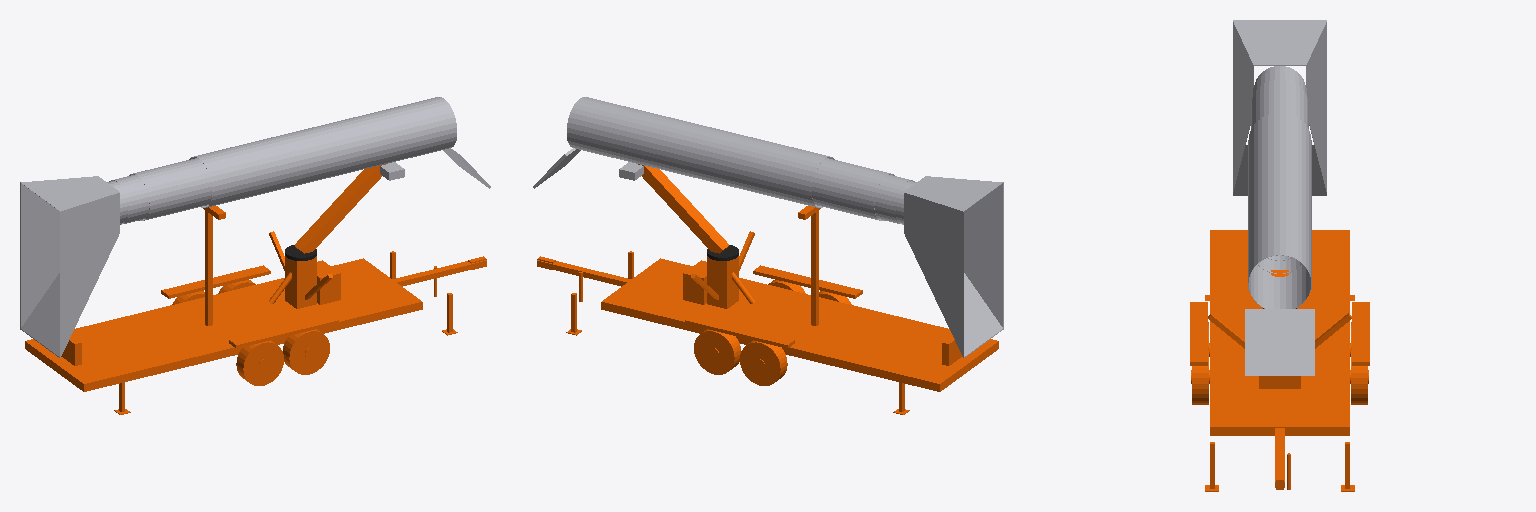
robot.urdf — tr5000_trash_rocket:
<?xml version="1.0"?>
<!-- cadpy:sourcePath=tr5000_1_urdf.py -->
<!-- cadpy:sourceHash=af9e098fb67090b3d28d1a054f773d7cbe2afeafd7471673b48af357dc1c9b79 -->
<robot name="tr5000_trash_rocket">
  <material name="steel_orange">
    <color rgba="0.96 0.45 0.05 1.0" />
  </material>
  <material name="steel_dark">
    <color rgba="0.18 0.18 0.18 1.0" />
  </material>
  <material name="aluminum_raw">
    <color rgba="0.75 0.75 0.78 1.0" />
  </material>
  <material name="uhmw_natural">
    <color rgba="0.95 0.95 0.9 1.0" />
  </material>
  <link name="base_link">
    <inertial>
      <origin xyz="-4.4 0 0.55" rpy="0 0 0" />
      <mass value="2950" />
      <inertia ixx="1959.29" iyy="19334.8" izz="20699.2" ixy="0" ixz="0" iyz="0" />
    </inertial>
    <visual>
      <origin xyz="0 0 0" rpy="0 0 0" />
      <geometry>
        <mesh filename="tr5000_1_meshes/base_link.stl" scale="0.001 0.001 0.001" />
      </geometry>
      <material name="steel_orange" />
    </visual>
    <collision>
      <origin xyz="0 0 0" rpy="0 0 0" />
      <geometry>
        <mesh filename="tr5000_1_meshes/base_link.stl" scale="0.001 0.001 0.001" />
      </geometry>
    </collision>
  </link>
  <link name="turret">
    <inertial>
      <origin xyz="0 0 0.03" rpy="0 0 0" />
      <mass value="40" />
      <inertia ixx="1.06167" iyy="1.06167" izz="2.09067" ixy="0" ixz="0" iyz="0" />
    </inertial>
    <visual>
      <origin xyz="0 0 0" rpy="0 0 0" />
      <geometry>
        <mesh filename="tr5000_1_meshes/turret.stl" scale="0.001 0.001 0.001" />
      </geometry>
      <material name="steel_dark" />
    </visual>
    <collision>
      <origin xyz="0 0 0" rpy="0 0 0" />
      <geometry>
        <mesh filename="tr5000_1_meshes/turret.stl" scale="0.001 0.001 0.001" />
      </geometry>
    </collision>
  </link>
  <link name="boom">
    <inertial>
      <origin xyz="0.82 0 0.66" rpy="0 0 0" />
      <mass value="180" />
      <inertia ixx="30.3375" iyy="72.75" izz="44.2875" ixy="0" ixz="0" iyz="0" />
    </inertial>
    <visual>
      <origin xyz="0 0 0" rpy="0 0 0" />
      <geometry>
        <mesh filename="tr5000_1_meshes/boom.stl" scale="0.001 0.001 0.001" />
      </geometry>
      <material name="steel_orange" />
    </visual>
    <collision>
      <origin xyz="0 0 0" rpy="0 0 0" />
      <geometry>
        <mesh filename="tr5000_1_meshes/boom.stl" scale="0.001 0.001 0.001" />
      </geometry>
    </collision>
  </link>
  <link name="chute_1">
    <inertial>
      <origin xyz="-1.2 0 0.46" rpy="0 0 0" />
      <mass value="330" />
      <inertia ixx="46.552" iyy="683.551" izz="683.551" ixy="0" ixz="0" iyz="0" />
    </inertial>
    <visual>
      <origin xyz="0 0 0" rpy="0 0 0" />
      <geometry>
        <mesh filename="tr5000_1_meshes/chute_1.stl" scale="0.001 0.001 0.001" />
      </geometry>
      <material name="aluminum_raw" />
    </visual>
    <collision>
      <origin xyz="0 0 0" rpy="0 0 0" />
      <geometry>
        <mesh filename="tr5000_1_meshes/chute_1.stl" scale="0.001 0.001 0.001" />
      </geometry>
    </collision>
  </link>
  <link name="chute_2">
    <inertial>
      <origin xyz="-2.5 0 0.46" rpy="0 0 0" />
      <mass value="240" />
      <inertia ixx="28.224" iyy="494.312" izz="494.312" ixy="0" ixz="0" iyz="0" />
    </inertial>
    <visual>
      <origin xyz="0 0 0" rpy="0 0 0" />
      <geometry>
        <mesh filename="tr5000_1_meshes/chute_2.stl" scale="0.001 0.001 0.001" />
      </geometry>
      <material name="aluminum_raw" />
    </visual>
    <collision>
      <origin xyz="0 0 0" rpy="0 0 0" />
      <geometry>
        <mesh filename="tr5000_1_meshes/chute_2.stl" scale="0.001 0.001 0.001" />
      </geometry>
    </collision>
  </link>
  <link name="chute_3">
    <inertial>
      <origin xyz="-2.9 0 0.46" rpy="0 0 0" />
      <mass value="210" />
      <inertia ixx="21.8435" iyy="431.097" izz="431.097" ixy="0" ixz="0" iyz="0" />
    </inertial>
    <visual>
      <origin xyz="0 0 0" rpy="0 0 0" />
      <geometry>
        <mesh filename="tr5000_1_meshes/chute_3.stl" scale="0.001 0.001 0.001" />
      </geometry>
      <material name="aluminum_raw" />
    </visual>
    <collision>
      <origin xyz="0 0 0" rpy="0 0 0" />
      <geometry>
        <mesh filename="tr5000_1_meshes/chute_3.stl" scale="0.001 0.001 0.001" />
      </geometry>
    </collision>
  </link>
  <link name="chute_4">
    <inertial>
      <origin xyz="-3.4 0 0.4" rpy="0 0 0" />
      <mass value="260" />
      <inertia ixx="62.3328" iyy="854.533" izz="873.533" ixy="0" ixz="0" iyz="0" />
    </inertial>
    <visual>
      <origin xyz="0 0 0" rpy="0 0 0" />
      <geometry>
        <mesh filename="tr5000_1_meshes/chute_4.stl" scale="0.001 0.001 0.001" />
      </geometry>
      <material name="aluminum_raw" />
    </visual>
    <collision>
      <origin xyz="0 0 0" rpy="0 0 0" />
      <geometry>
        <mesh filename="tr5000_1_meshes/chute_4.stl" scale="0.001 0.001 0.001" />
      </geometry>
    </collision>
  </link>
  <joint name="turret_slew" type="revolute">
    <parent link="base_link" />
    <child link="turret" />
    <origin xyz="-3.6576 0 1.64084" rpy="0 0 0" />
    <axis xyz="0 0 1" />
    <limit lower="-3.14159" upper="3.14159" effort="8000" velocity="0.5" />
  </joint>
  <joint name="boom_lift" type="revolute">
    <parent link="turret" />
    <child link="boom" />
    <origin xyz="0 0 0.05916" rpy="0 0 0" />
    <axis xyz="0 -1 0" />
    <limit lower="0" upper="0.698132" effort="60000" velocity="0.25" />
  </joint>
  <joint name="chute_pitch" type="revolute">
    <parent link="boom" />
    <child link="chute_1" />
    <origin xyz="1.6456 0 1.3226" rpy="0 0 0" />
    <axis xyz="0 1 0" />
    <limit lower="-0.0872665" upper="1.72788" effort="60000" velocity="0.25" />
  </joint>
  <joint name="telescope_2" type="prismatic">
    <parent link="chute_1" />
    <child link="chute_2" />
    <origin xyz="0 0 0" rpy="0 0 0" />
    <axis xyz="-1 0 0" />
    <limit lower="0" upper="2.05057" effort="15000" velocity="0.4" />
  </joint>
  <joint name="telescope_3" type="prismatic">
    <parent link="chute_2" />
    <child link="chute_3" />
    <origin xyz="0 0 0" rpy="0 0 0" />
    <axis xyz="-1 0 0" />
    <limit lower="0" upper="2.05057" effort="15000" velocity="0.4" />
  </joint>
  <joint name="telescope_4" type="prismatic">
    <parent link="chute_3" />
    <child link="chute_4" />
    <origin xyz="0 0 0" rpy="0 0 0" />
    <axis xyz="-1 0 0" />
    <limit lower="0" upper="2.05057" effort="15000" velocity="0.4" />
  </joint>
</robot>

--- Render facts (derived) ---
The picture shows the robot from 3 angles, left to right: view 1: azimuth 30°, elevation 25°; view 2: azimuth 150°, elevation 25°; view 3: azimuth 270°, elevation 25°; orthographic projection.
Robot: tr5000_trash_rocket — 7 links, 6 joints (3 revolute, 3 prismatic); root link base_link; default pose: all joints at 0.
Visible links, largest first — view 1: base_link, chute_1, chute_4, chute_2, boom, chute_3; view 2: base_link, chute_1, chute_4, chute_2, boom, chute_3; view 3: base_link, chute_1, chute_4, chute_2, chute_3.
Boxes of the visible links, box(x1,y1,x2,y2) form: base_link: box(25, 206, 486, 414); chute_1: box(189, 97, 490, 207); chute_4: box(20, 176, 127, 357); chute_2: box(129, 158, 211, 220); boom: box(295, 164, 385, 253); chute_3: box(109, 174, 149, 224); base_link: box(537, 206, 998, 414); chute_1: box(533, 97, 834, 207); chute_4: box(896, 176, 1003, 357); chute_2: box(812, 158, 894, 220); boom: box(638, 164, 728, 253); chute_3: box(874, 174, 914, 224); base_link: box(1190, 230, 1369, 491); chute_1: box(1245, 113, 1314, 375); chute_4: box(1233, 20, 1326, 195); chute_2: box(1251, 79, 1308, 273); chute_3: box(1253, 69, 1306, 260).
Size in the robot's own frame: 8.84 by 2.59 by 3.94 metres.
7 mesh visuals loaded from 7 distinct referenced files (7 binary STL).
